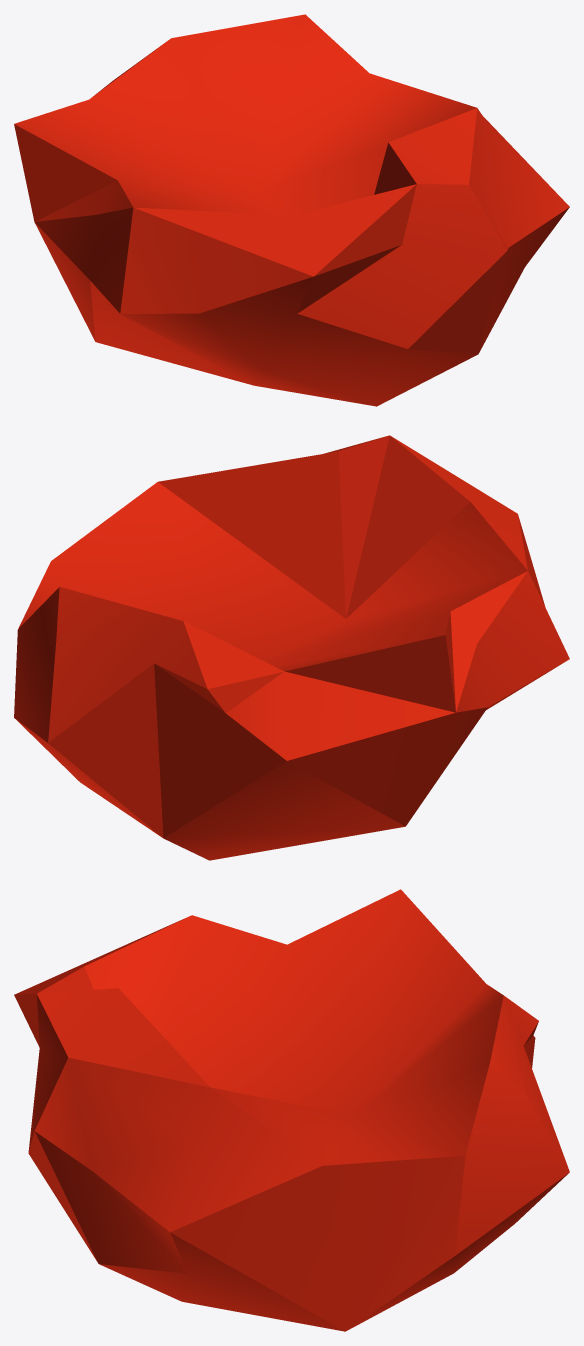
Rendered from SM_Nest.FBX.
3 views of the same model, one above another, from view 1: azimuth 30°, elevation 25°; view 2: azimuth 150°, elevation 25°; view 3: azimuth 270°, elevation 25° (orthographic). The views are drawn at different scales.
Parts seen in each view (by area): view 1: SM_Nest; view 2: SM_Nest; view 3: SM_Nest.
Part boxes in pixels (x1,y1,x2,y2): SM_Nest: (14,14,569,406); SM_Nest: (14,435,569,860); SM_Nest: (14,889,569,1331).
Bounding box in the file's own units: 46.78 × 28.71 × 47.58.
